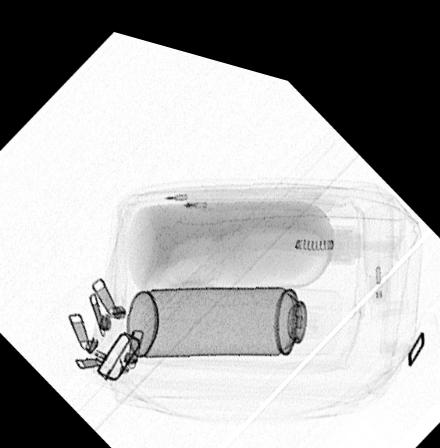Sprayer: (126, 271, 343, 350)
